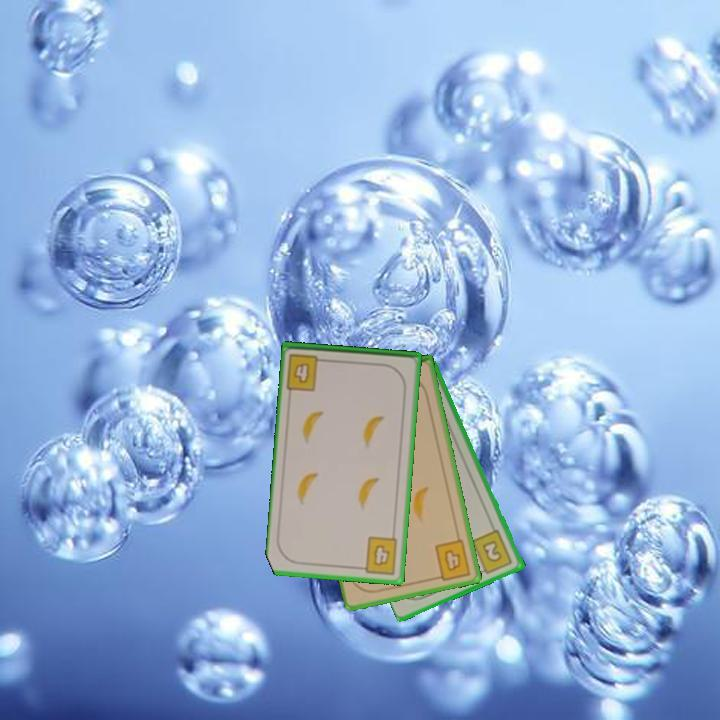2b: (469, 527, 515, 577)
4b: (431, 536, 474, 583), (355, 533, 400, 577), (284, 350, 330, 393)
